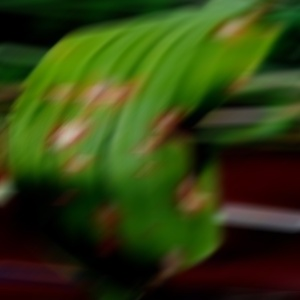Brown_Spot: (45, 68, 139, 111), (28, 113, 98, 158), (151, 101, 207, 154), (171, 168, 211, 213), (213, 15, 254, 52), (211, 68, 252, 100), (156, 241, 192, 270), (130, 156, 167, 180), (134, 135, 159, 155)
